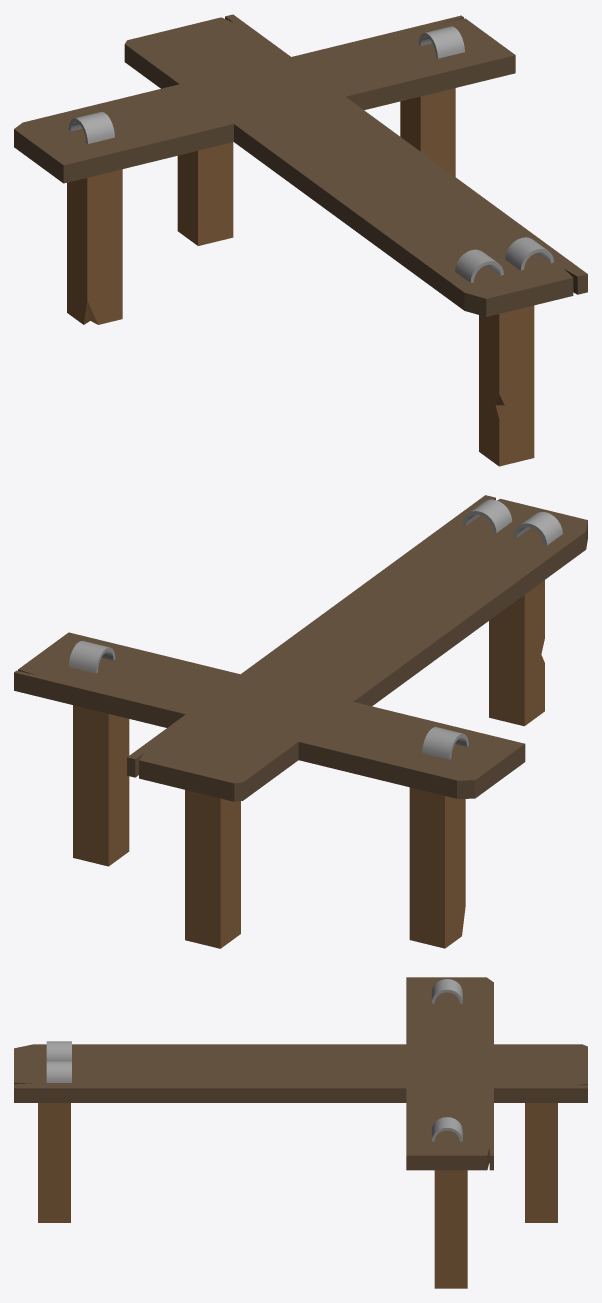
File: medieval_torture_torture_device_lbaq0har3u.glb
3 views of the same model, one above another, from view 1: azimuth 30°, elevation 25°; view 2: azimuth 150°, elevation 25°; view 3: azimuth 270°, elevation 25° (orthographic). The views are drawn at different scales.
Visible parts, largest first — view 1: torture_device_008; view 2: torture_device_008; view 3: torture_device_008.
Part boxes in pixels (left/top/right/bottom): torture_device_008: left=14, top=14, right=587, bottom=466; torture_device_008: left=14, top=495, right=587, bottom=948; torture_device_008: left=14, top=977, right=587, bottom=1288.
Bounding box in the file's own units: 1.73 × 0.7419 × 2.35.
